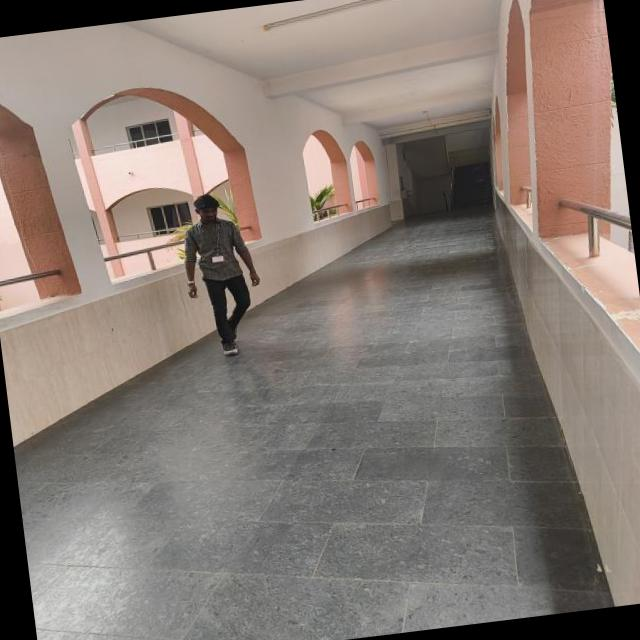id_card: (206, 218, 222, 264)
